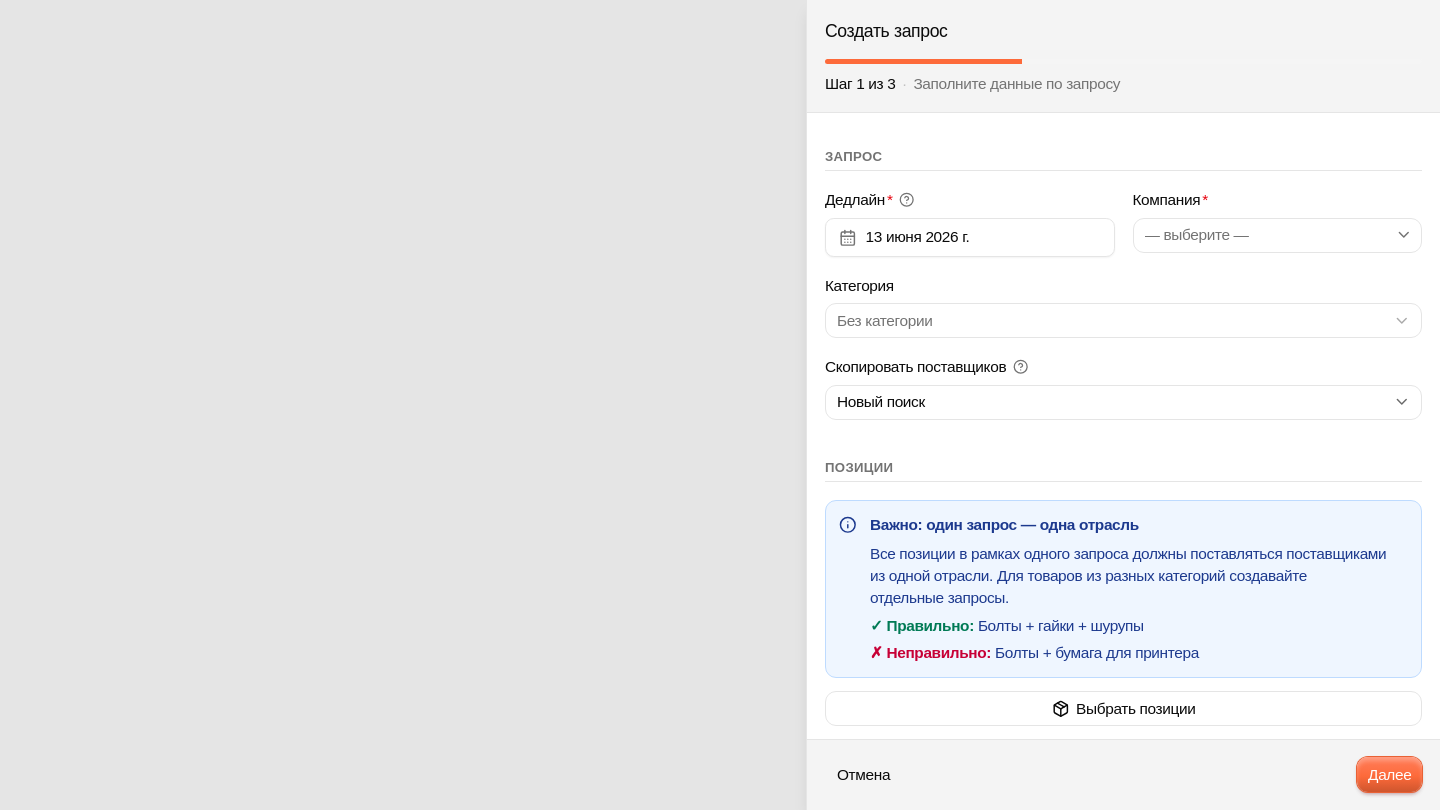
Test: CreateProcurementInquiryDrawer — Step 1 inquiry meta › Далее with cleared meta surfaces required errors and stays on step 1
Clear the date field labelled "Дедлайн" at (855, 200), box [825,189,885,211]
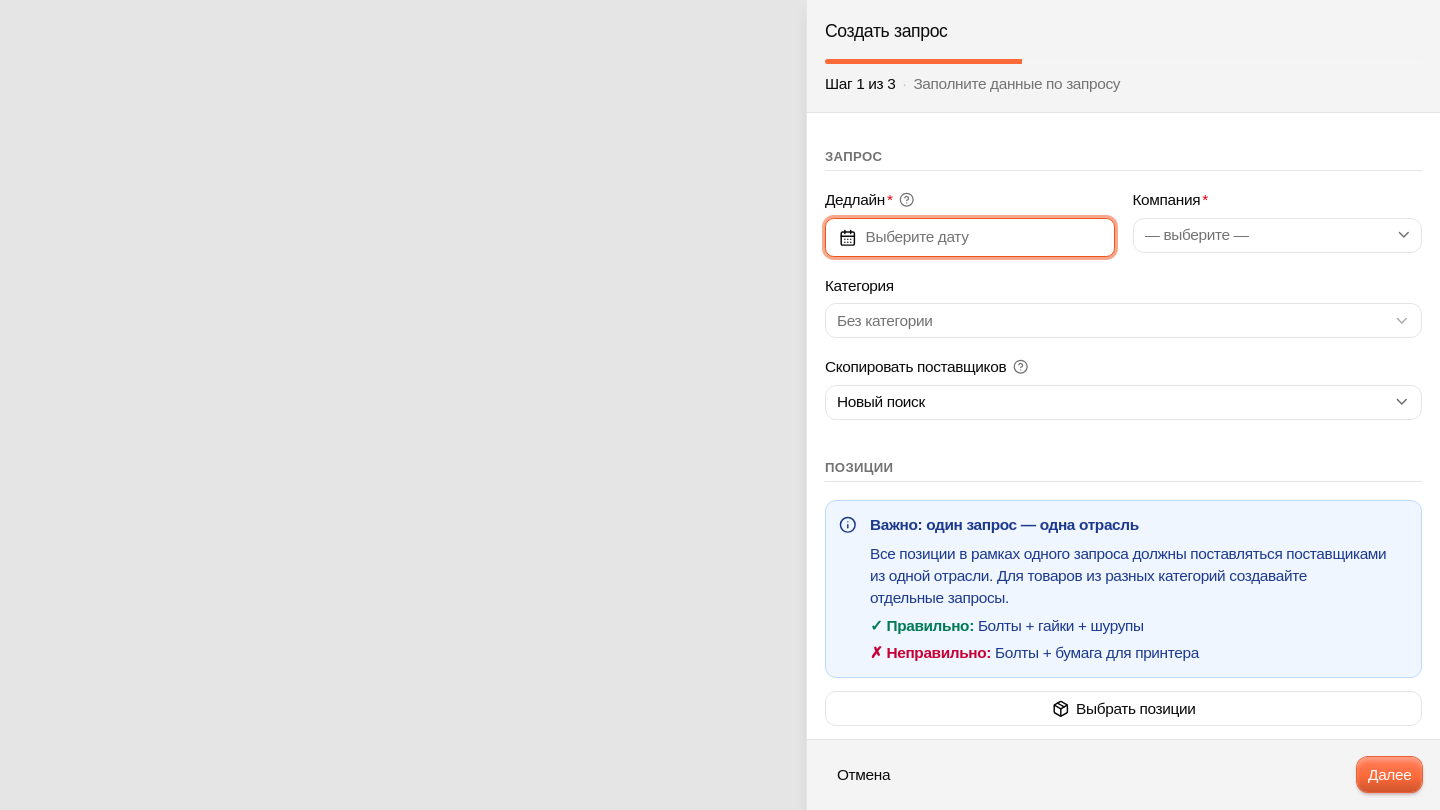
Click the button "Далее" at (1390, 775), box [1357,757,1422,792]
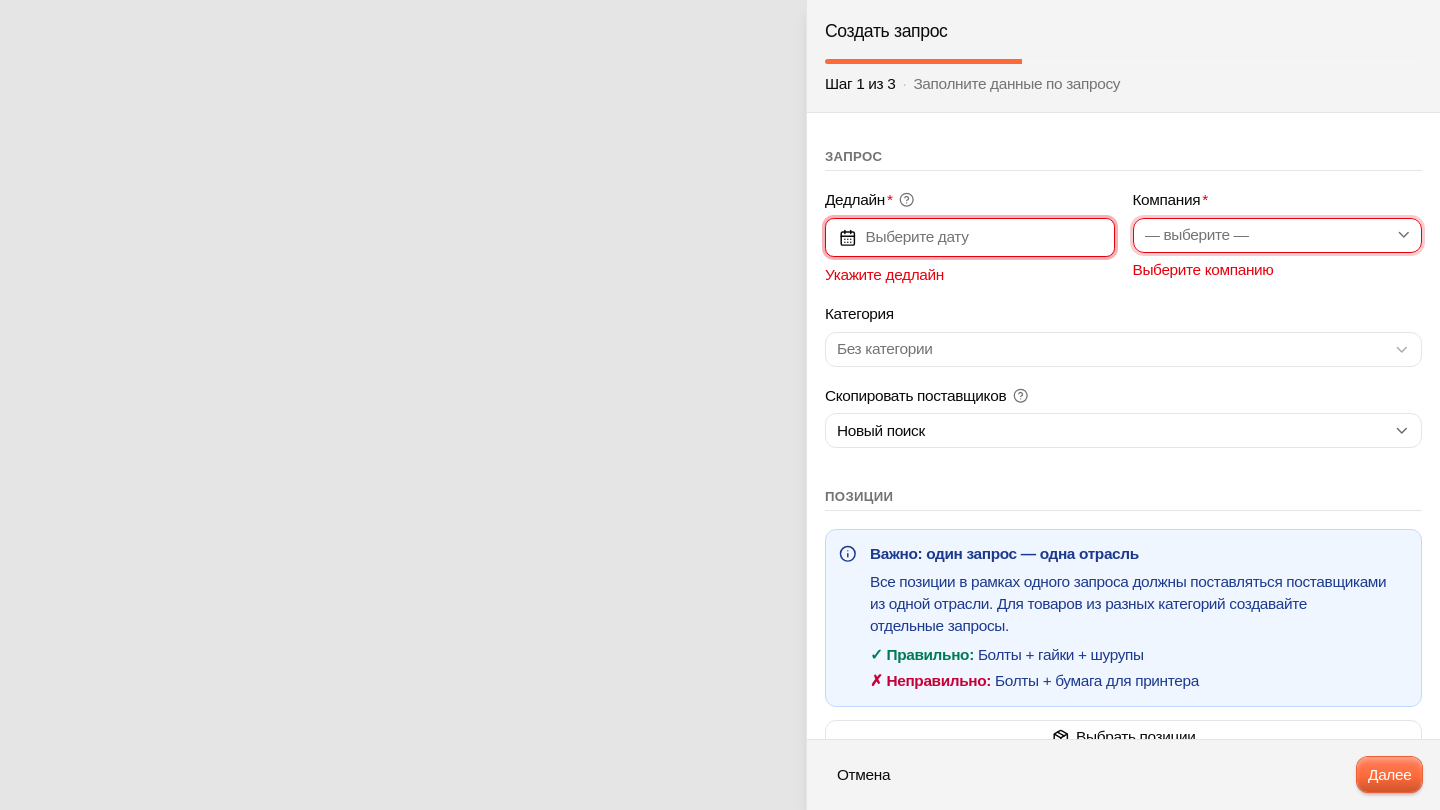
Now the text "Укажите дедлайн" is shown, box [825,266,944,283]
Now the text "Выберите компанию" is shown, box [1132,261,1274,278]
